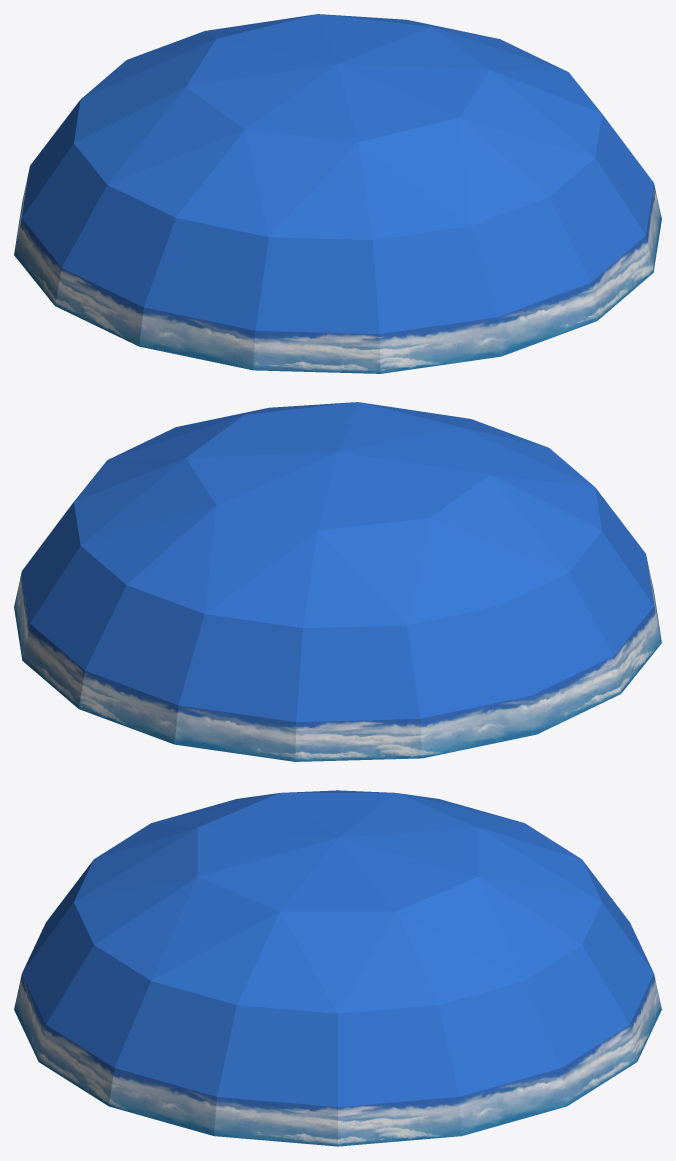
The picture shows the model from 3 angles, top to bottom: view 1: azimuth 30°, elevation 25°; view 2: azimuth 150°, elevation 25°; view 3: azimuth 270°, elevation 25°; orthographic projection.
Parts seen in each view (by area): view 1: vrcorn_SKP__texture25, vrcorn_SKP__texture14; view 2: vrcorn_SKP__texture25, vrcorn_SKP__texture14; view 3: vrcorn_SKP__texture25, vrcorn_SKP__texture14.
Part boxes in pixels (left/top/right/bottom): vrcorn_SKP__texture25: left=22, top=14, right=653, bottom=334; vrcorn_SKP__texture14: left=14, top=168, right=661, bottom=373; vrcorn_SKP__texture25: left=22, top=402, right=653, bottom=722; vrcorn_SKP__texture14: left=14, top=556, right=661, bottom=761; vrcorn_SKP__texture25: left=22, top=790, right=653, bottom=1106; vrcorn_SKP__texture14: left=14, top=974, right=661, bottom=1146.
Size of the model in its own units: 641109 by 187603 by 641109.
Materials: 2 (2 with a texture image).
